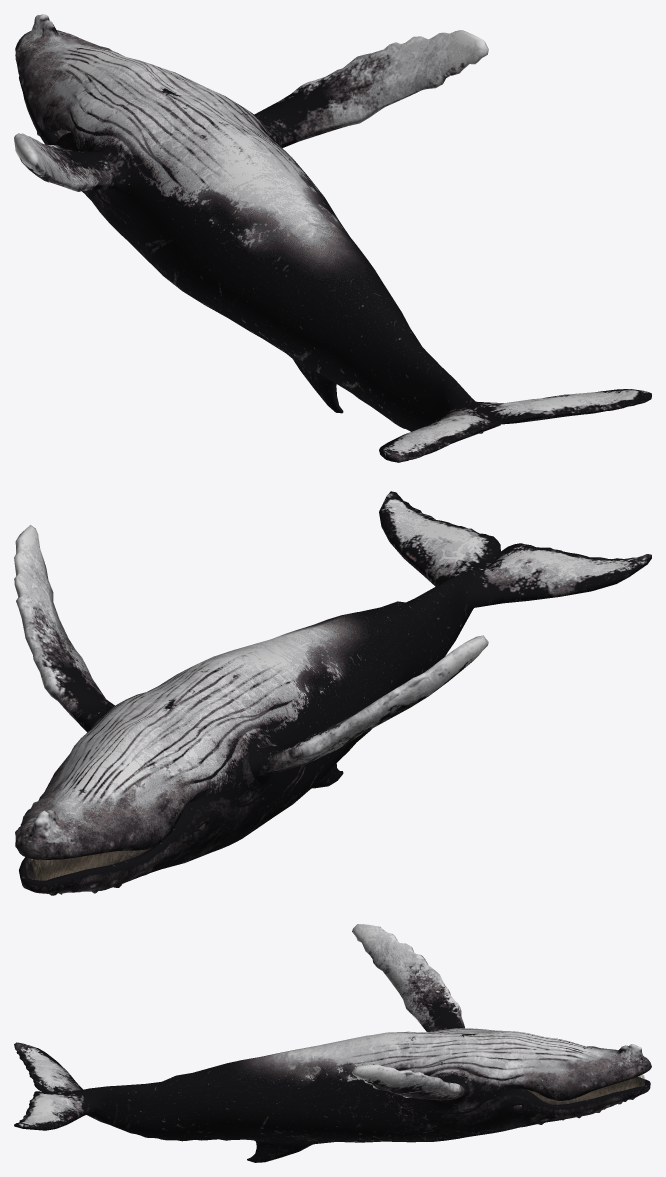
Rendered from whale_swim_new.glb.
The picture shows the model from 3 angles, top to bottom: view 1: azimuth 30°, elevation 25°; view 2: azimuth 150°, elevation 25°; view 3: azimuth 270°, elevation 25°; orthographic projection. The views are drawn at different scales.
Visible parts, largest first — view 1: HumpBackWhaleC_Humpback_0; view 2: HumpBackWhaleC_Humpback_0, BarbsC_OThers_0; view 3: HumpBackWhaleC_Humpback_0, BarbsC_OThers_0.
Boxes of the visible parts, x1,y1,x2,y2 form: HumpBackWhaleC_Humpback_0: (14,14,651,462); HumpBackWhaleC_Humpback_0: (14,491,651,895); BarbsC_OThers_0: (25,849,148,880); HumpBackWhaleC_Humpback_0: (14,924,651,1162); BarbsC_OThers_0: (526,1074,644,1104).
Size of what is drawn, in the model's own units: 10.56 by 5.72 by 19.68.
Materials: 2 (2 with a texture image).
